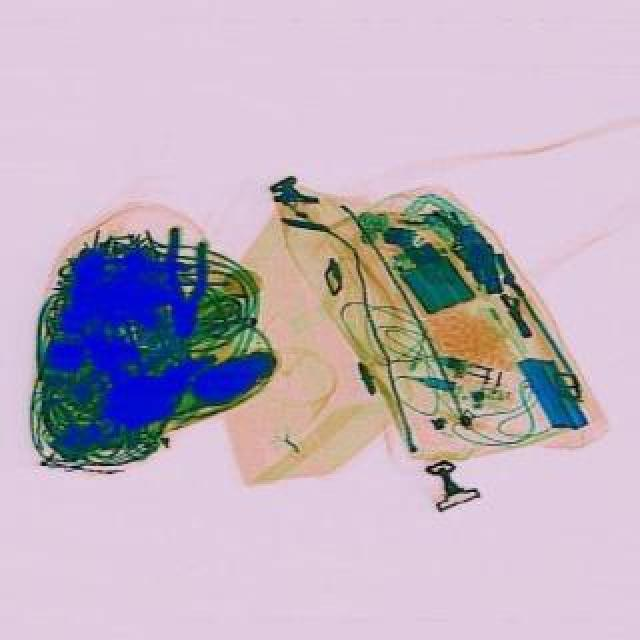wrench: (164, 228, 216, 340)
